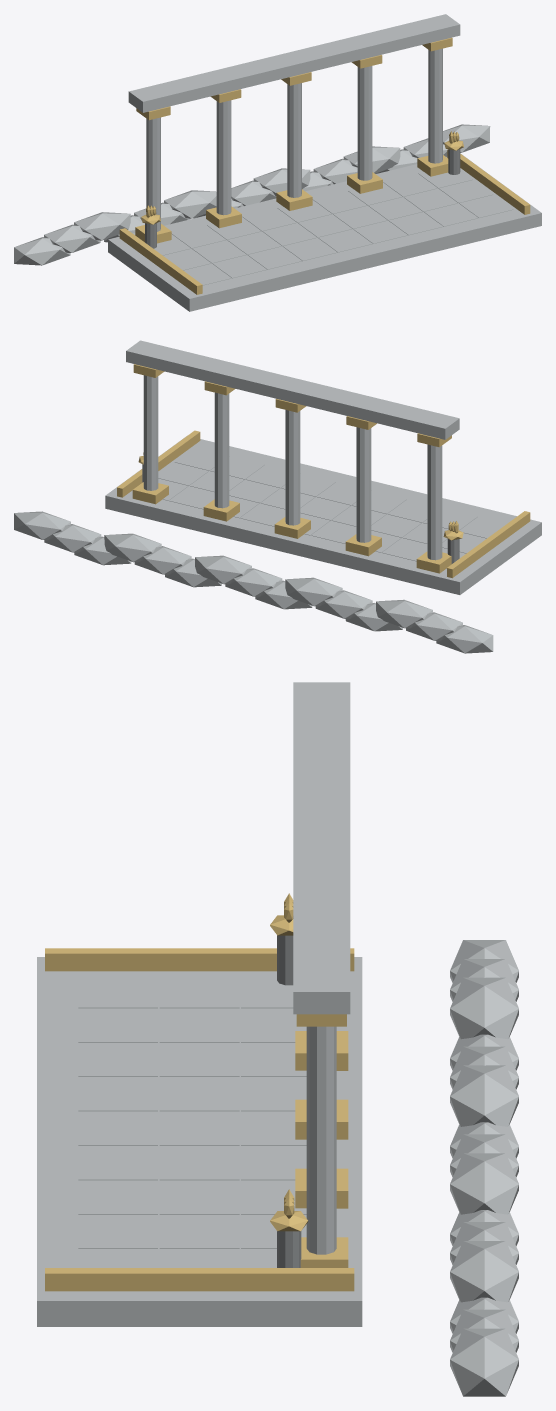
The model's file is arena_mount_olympus.glb.
3 renders of one model, top to bottom at view 1: azimuth 30°, elevation 25°; view 2: azimuth 150°, elevation 25°; view 3: azimuth 270°, elevation 25°, orthographic. The views are drawn at different scales.
Parts seen in each view (by area): view 1: FLOOR, ENTABLATURE, COLUMN.001, COLUMN.003, COLUMN.002, COLUMN.004, COLUMN, BOUNDARY, CLOUD, CLOUD.002, BOUNDARY.001, CLOUD.005 (+39 smaller); view 2: FLOOR, ENTABLATURE, COLUMN.001, COLUMN.002, COLUMN.004, COLUMN, COLUMN.003, BOUNDARY, CLOUD.014, CLOUD.011, CLOUD, CLOUD.005 (+39 smaller); view 3: FLOOR, ENTABLATURE, BOUNDARY.001, COLUMN.004, BOUNDARY, CLOUD.014, CLOUD.002, CLOUD.005, CLOUD.008, CLOUD.011, TILE.004, TILE.013 (+40 smaller).
Part boxes in pixels (x1,y1,x2,y2): FLOOR: (108,153,541,311); ENTABLATURE: (128,14,460,112); COLUMN.001: (216,100,231,215); COLUMN.003: (357,66,372,180); COLUMN.002: (287,83,301,197); COLUMN.004: (428,48,442,163); COLUMN: (146,117,160,231); BOUNDARY: (119,228,202,294); CLOUD: (14,237,70,265); CLOUD.002: (74,212,130,240); BOUNDARY.001: (447,149,530,214); CLOUD.005: (164,190,216,218); FLOOR: (105,436,541,594); ENTABLATURE: (126,340,459,439); COLUMN.001: (356,427,371,542); COLUMN.002: (285,410,300,525); COLUMN.004: (143,375,158,490); COLUMN: (427,444,442,560); COLUMN.003: (214,392,229,508); BOUNDARY: (447,511,530,578); CLOUD.014: (14,511,70,539); CLOUD.011: (104,533,161,562); CLOUD: (436,625,493,653); CLOUD.005: (285,577,342,606); FLOOR: (37,957,362,1326); ENTABLATURE: (293,682,350,1014); BOUNDARY.001: (45,1268,354,1291); COLUMN.004: (306,1026,336,1254); BOUNDARY: (45,948,354,971); CLOUD.014: (450,1328,518,1396); CLOUD.002: (450,977,518,1039); CLOUD.005: (450,1065,518,1126); CLOUD.008: (450,1153,518,1214); CLOUD.011: (450,1241,518,1302); TILE.004: (159,1008,239,1042); TILE.013: (159,1111,239,1145).
Size of the model in its own units: 13.51 by 5 by 5.93.
